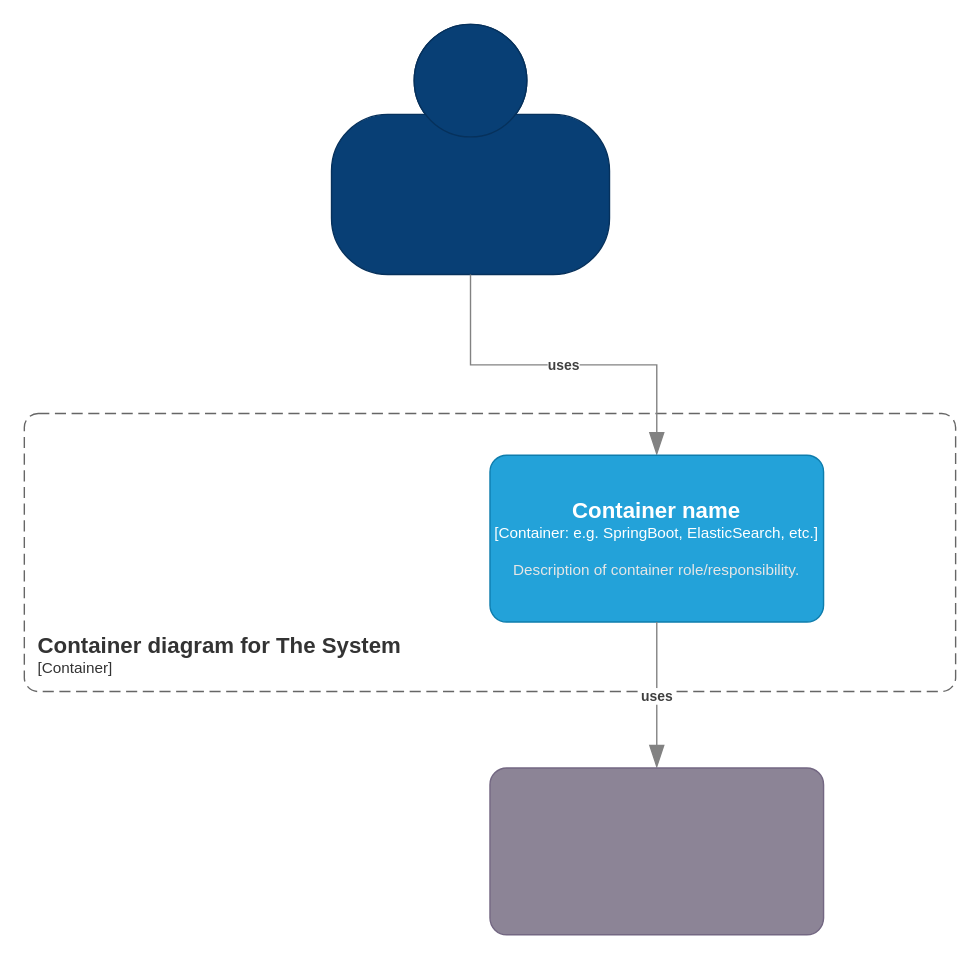
Image size: 980x959. Some labels were removed from this diagram. Each missing label, with the centre of its shape:
External system name [Software System] Description of external software system.: pixel 656 851
User [Person]: pixel 470 149
